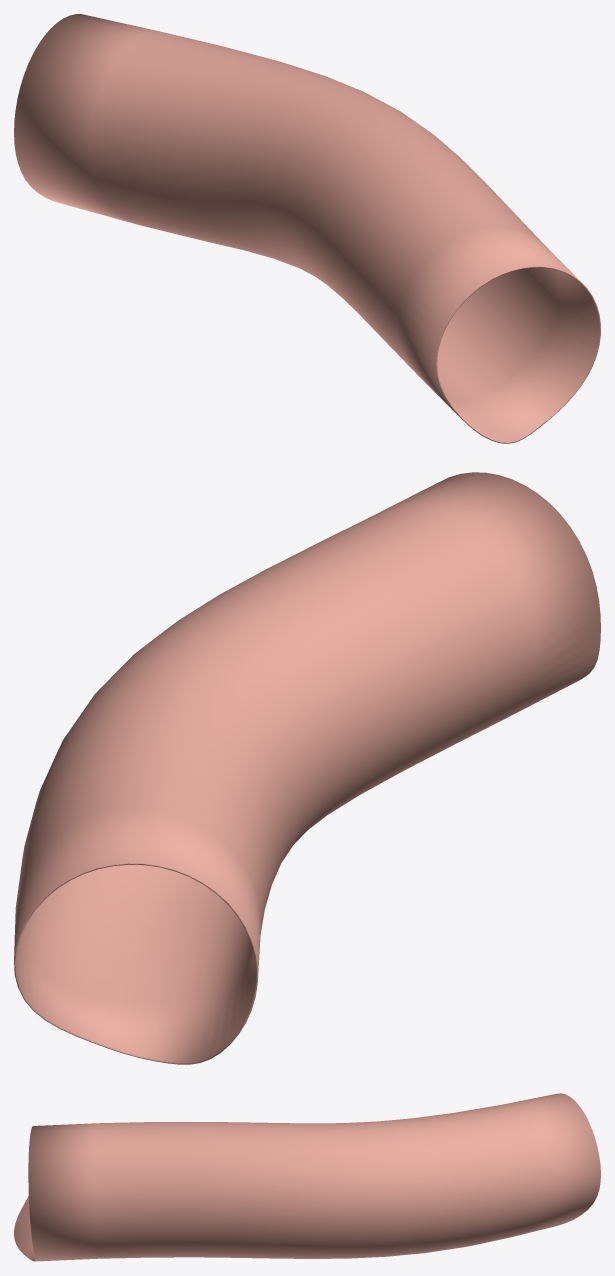
File: Vagina2.fbx
3 renders of one model, top to bottom at view 1: azimuth 30°, elevation 25°; view 2: azimuth 150°, elevation 25°; view 3: azimuth 270°, elevation 25°, orthographic. The views are drawn at different scales.
Visible parts, largest first — view 1: BezierCurve; view 2: BezierCurve; view 3: BezierCurve.
Boxes of the visible parts, <box> form: BezierCurve: <box>14,14,600,443</box>; BezierCurve: <box>14,472,600,1064</box>; BezierCurve: <box>14,1093,600,1261</box>.
Size of the model in its own units: 3.34 by 2.19 by 8.69.
